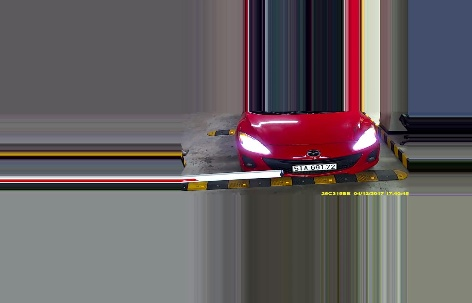plate: (291, 164, 338, 173)
